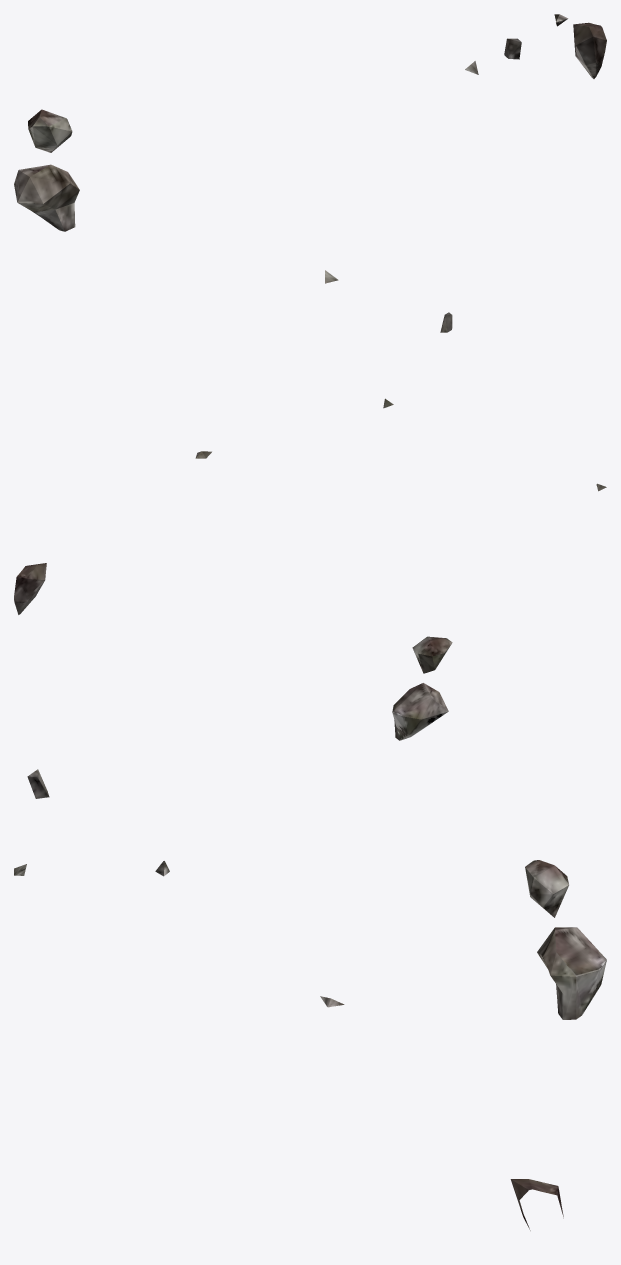
The picture shows the model from 3 angles, top to bottom: view 1: azimuth 30°, elevation 25°; view 2: azimuth 150°, elevation 25°; view 3: azimuth 270°, elevation 25°; orthographic projection. The views are drawn at different scales.
Bounding box in the file's own units: 0.7047 × 0.3859 × 0.6042.
Materials: 1 (1 with a texture image).
